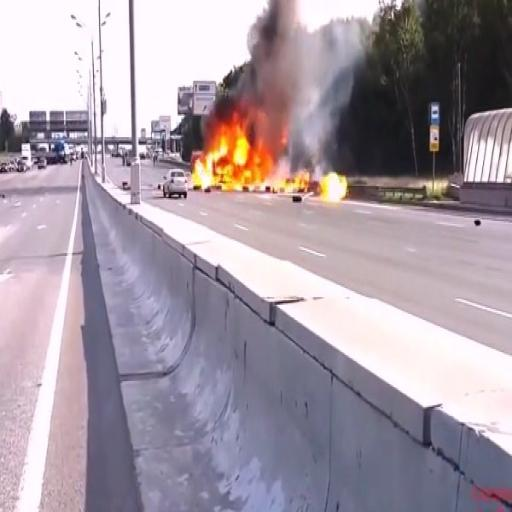fire: (189, 107, 286, 195), (313, 169, 353, 207), (274, 166, 312, 195)
